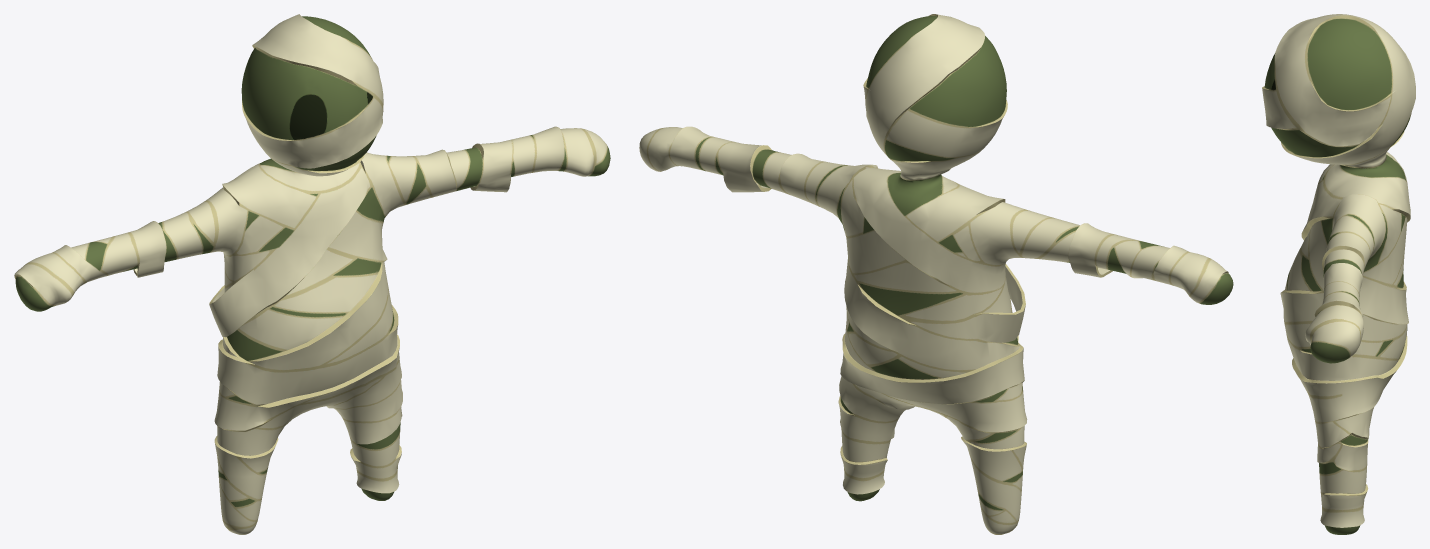
Rendered from 6木乃伊.fbx.
3 renders of one model, left to right at view 1: azimuth 30°, elevation 25°; view 2: azimuth 150°, elevation 25°; view 3: azimuth 270°, elevation 25°, orthographic. The views are drawn at different scales.
Parts seen in each view (by area): view 1: 6木乃伊; view 2: 6木乃伊; view 3: 6木乃伊.
Part boxes in pixels (x1,y1,x2,y2): 6木乃伊: [14, 14, 610, 534]; 6木乃伊: [639, 14, 1233, 534]; 6木乃伊: [1262, 14, 1415, 534].
Size of the model in its own units: 1.97 by 1.59 by 0.4579.
